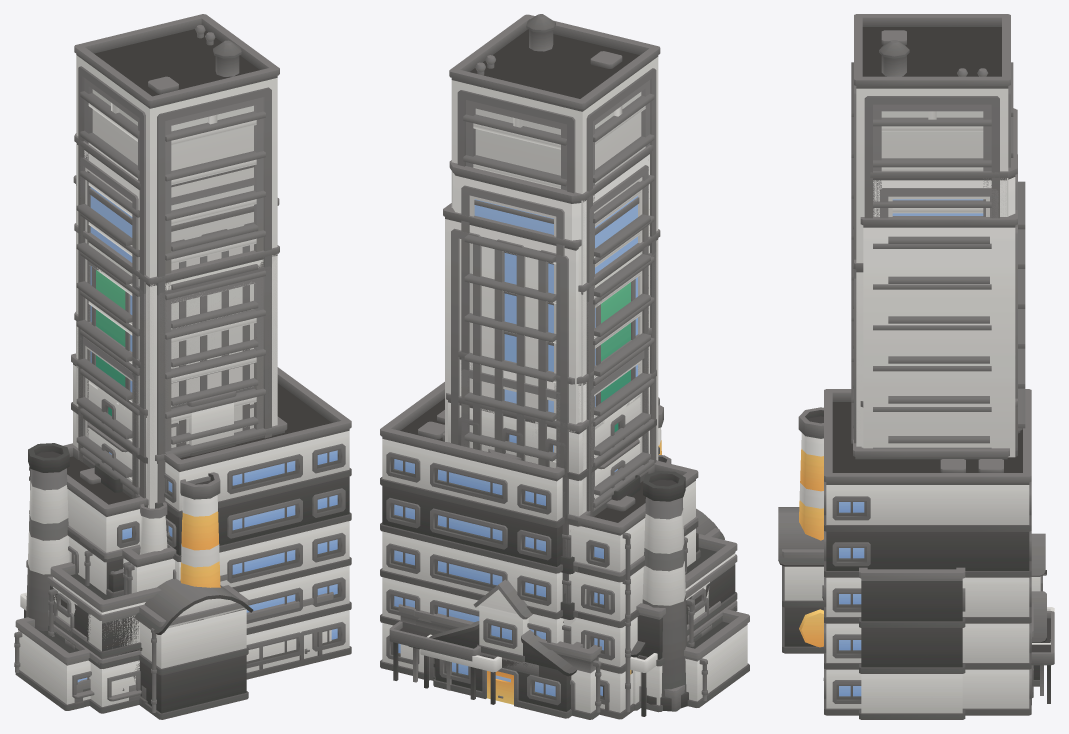
Rendered from ap_ciudad.glb.
3 renders of one model, left to right at view 1: azimuth 30°, elevation 25°; view 2: azimuth 150°, elevation 25°; view 3: azimuth 270°, elevation 25°, orthographic. The views are drawn at different scales.
Visible parts, largest first — view 1: c_skyscraper_d, c_n, c_skyscraper_c, c_skyscraper_b, i_n, i_f, i_l, c_j, c_skyscraper_e, i_q, c_skyscraper_a, c_m (+6 smaller); view 2: c_skyscraper_d, c_n, c_skyscraper_b, c_skyscraper_e, c_j, i_f, i_m, i_q, c_m, c_skyscraper_a, i_l, c_skyscraper_c (+3 smaller); view 3: c_n, c_skyscraper_d, c_skyscraper_e, i_r, c_skyscraper_b, i_n, c_skyscraper_c, i_l, c_skyscraper_a, i_c, c_l, i_m (+1 smaller).
Part boxes in pixels (bbox=[...]): c_skyscraper_d: bbox=[74, 14, 279, 508]; c_n: bbox=[20, 367, 351, 679]; c_skyscraper_c: bbox=[74, 223, 279, 537]; c_skyscraper_b: bbox=[74, 133, 258, 498]; i_n: bbox=[122, 476, 253, 719]; i_f: bbox=[26, 443, 161, 713]; i_l: bbox=[14, 472, 220, 710]; c_j: bbox=[29, 443, 147, 594]; c_skyscraper_e: bbox=[73, 175, 279, 452]; i_q: bbox=[26, 560, 311, 713]; c_skyscraper_a: bbox=[74, 311, 258, 498]; c_m: bbox=[71, 353, 254, 507]; c_skyscraper_d: bbox=[449, 14, 660, 510]; c_n: bbox=[380, 382, 659, 716]; c_skyscraper_b: bbox=[449, 145, 653, 516]; c_skyscraper_e: bbox=[443, 197, 639, 625]; c_j: bbox=[560, 460, 698, 719]; i_f: bbox=[642, 471, 737, 711]; i_m: bbox=[429, 579, 577, 718]; i_q: bbox=[408, 554, 737, 719]; c_m: bbox=[446, 370, 656, 644]; c_skyscraper_a: bbox=[458, 328, 652, 515]; i_l: bbox=[658, 405, 749, 707]; c_skyscraper_c: bbox=[504, 229, 660, 513]; c_n: bbox=[824, 389, 1054, 715]; c_skyscraper_d: bbox=[851, 14, 1013, 448]; c_skyscraper_e: bbox=[860, 154, 1017, 457]; i_r: bbox=[859, 567, 965, 719]; c_skyscraper_b: bbox=[853, 108, 1025, 428]; i_n: bbox=[778, 507, 823, 653]; c_skyscraper_c: bbox=[851, 259, 991, 448]; i_l: bbox=[798, 407, 823, 540]; c_skyscraper_a: bbox=[853, 348, 1025, 443]; i_c: bbox=[799, 609, 1054, 704]; c_l: bbox=[853, 428, 1022, 459]; i_m: bbox=[1031, 533, 1046, 686].
Size of the model in its own units: 2.71 by 5.47 by 2.18.
2 materials, 2 textured.
